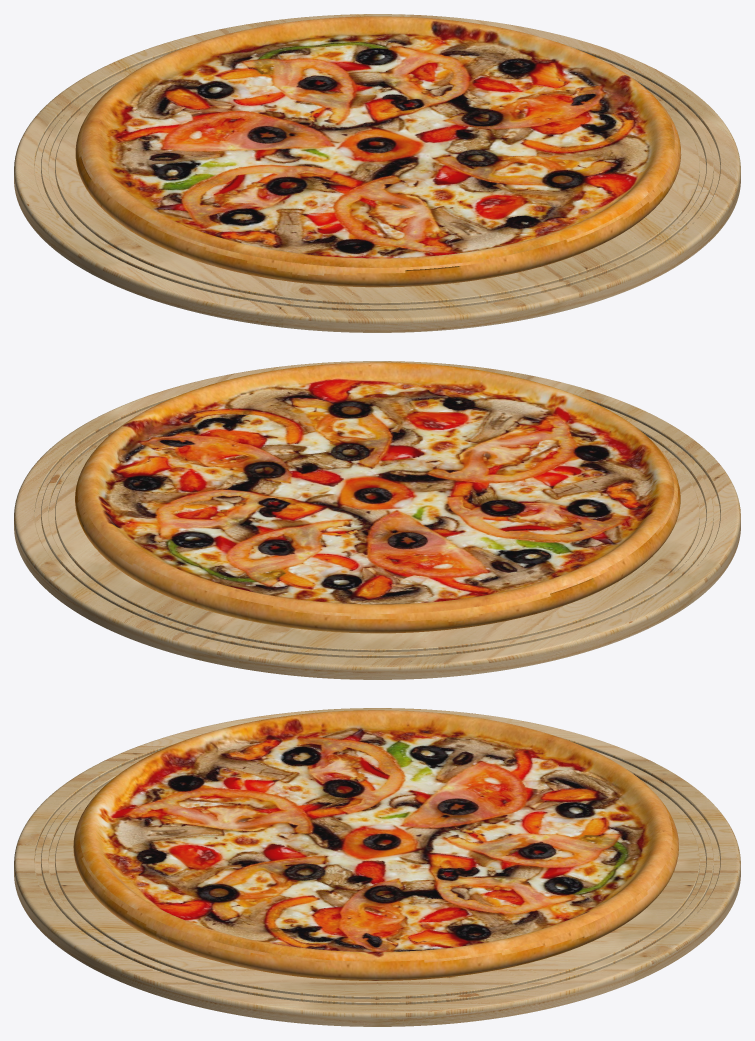
The model's file is uploads_files_6609780_cgtrader_optimized_Vegetables+Pizza.fbx.
The picture shows the model from 3 angles, top to bottom: view 1: azimuth 30°, elevation 25°; view 2: azimuth 150°, elevation 25°; view 3: azimuth 270°, elevation 25°; orthographic projection.
Visible parts, largest first — view 1: pizza, board; view 2: pizza, board; view 3: pizza, board.
Boxes of the visible parts, left/top/right/bottom form: pizza: left=75, top=16, right=681, bottom=287; board: left=14, top=14, right=740, bottom=332; pizza: left=75, top=362, right=680, bottom=633; board: left=14, top=361, right=740, bottom=679; pizza: left=73, top=710, right=678, bottom=980; board: left=14, top=708, right=740, bottom=1026.
Bounding box in the file's own units: 3.02 × 0.1895 × 3.02.
